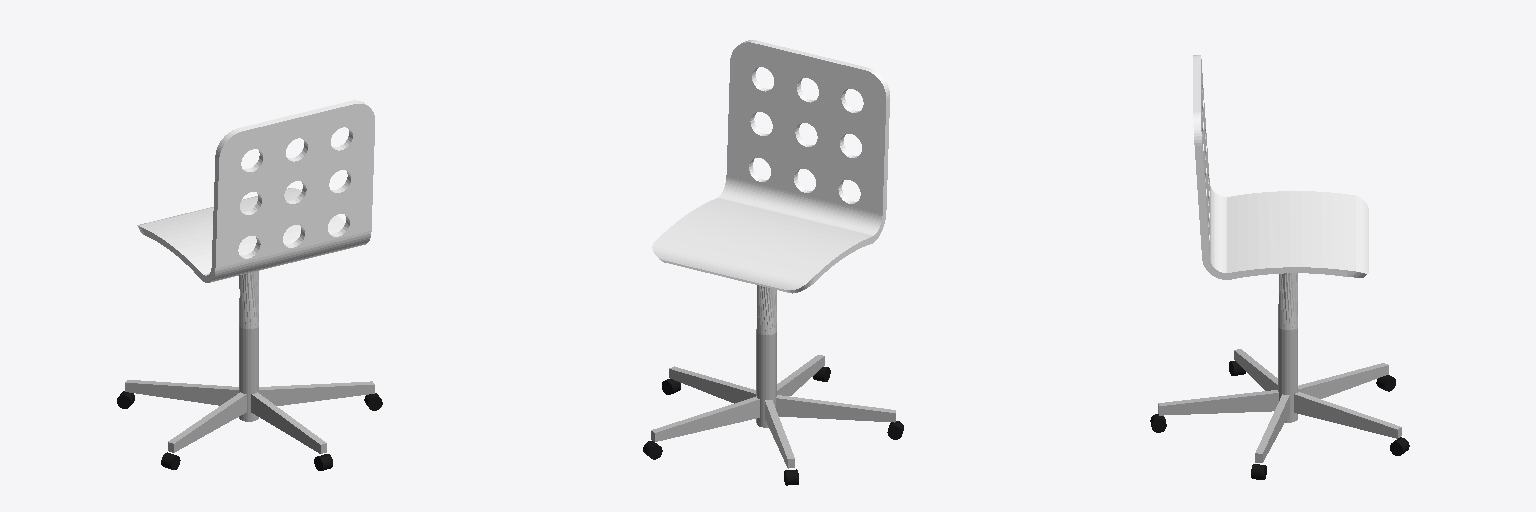
3 views of the same model, side by side, from view 1: azimuth 30°, elevation 25°; view 2: azimuth 150°, elevation 25°; view 3: azimuth 270°, elevation 25° (orthographic).
Visible parts, largest first — view 1: Mesh1 Group2 Group1 Model, Mesh12 Group3 ske3F1 Group1 Model, Mesh5 Group5 Group3 ske3F1 Group1 Model, Mesh3 Group4 Group3 ske3F1 Group1 Model, Mesh7 Group6 Group3 ske3F1 Group1 Model, Mesh9 Group7 Group3 ske3F1 Group1 Model; view 2: Mesh1 Group2 Group1 Model, Mesh12 Group3 ske3F1 Group1 Model, Mesh7 Group6 Group3 ske3F1 Group1 Model, Mesh11 Group8 Group3 ske3F1 Group1 Model, Mesh5 Group5 Group3 ske3F1 Group1 Model, Mesh9 Group7 Group3 ske3F1 Group1 Model, Mesh3 Group4 Group3 ske3F1 Group1 Model; view 3: Mesh1 Group2 Group1 Model, Mesh12 Group3 ske3F1 Group1 Model, Mesh9 Group7 Group3 ske3F1 Group1 Model, Mesh11 Group8 Group3 ske3F1 Group1 Model, Mesh3 Group4 Group3 ske3F1 Group1 Model, Mesh5 Group5 Group3 ske3F1 Group1 Model, Mesh7 Group6 Group3 ske3F1 Group1 Model.
Part boxes in pixels (left/top/right/bottom): Mesh1 Group2 Group1 Model: left=137, top=100, right=374, bottom=282; Mesh12 Group3 ske3F1 Group1 Model: left=239, top=271, right=258, bottom=421; Mesh5 Group5 Group3 ske3F1 Group1 Model: left=259, top=381, right=374, bottom=405; Mesh3 Group4 Group3 ske3F1 Group1 Model: left=125, top=380, right=238, bottom=405; Mesh7 Group6 Group3 ske3F1 Group1 Model: left=168, top=392, right=246, bottom=452; Mesh9 Group7 Group3 ske3F1 Group1 Model: left=251, top=392, right=326, bottom=453; Mesh1 Group2 Group1 Model: left=652, top=40, right=889, bottom=293; Mesh12 Group3 ske3F1 Group1 Model: left=756, top=285, right=776, bottom=427; Mesh7 Group6 Group3 ske3F1 Group1 Model: left=776, top=395, right=895, bottom=422; Mesh11 Group8 Group3 ske3F1 Group1 Model: left=651, top=396, right=759, bottom=441; Mesh5 Group5 Group3 ske3F1 Group1 Model: left=669, top=366, right=755, bottom=403; Mesh9 Group7 Group3 ske3F1 Group1 Model: left=777, top=355, right=824, bottom=395; Mesh3 Group4 Group3 ske3F1 Group1 Model: left=765, top=400, right=794, bottom=468; Mesh1 Group2 Group1 Model: left=1193, top=55, right=1368, bottom=279; Mesh12 Group3 ske3F1 Group1 Model: left=1278, top=273, right=1297, bottom=422; Mesh9 Group7 Group3 ske3F1 Group1 Model: left=1158, top=390, right=1278, bottom=415; Mesh11 Group8 Group3 ske3F1 Group1 Model: left=1294, top=392, right=1401, bottom=438; Mesh3 Group4 Group3 ske3F1 Group1 Model: left=1298, top=363, right=1388, bottom=398; Mesh5 Group5 Group3 ske3F1 Group1 Model: left=1255, top=394, right=1289, bottom=462; Mesh7 Group6 Group3 ske3F1 Group1 Model: left=1234, top=349, right=1277, bottom=390.
Bounding box in the file's own units: 0.5491 × 0.7812 × 0.5371.